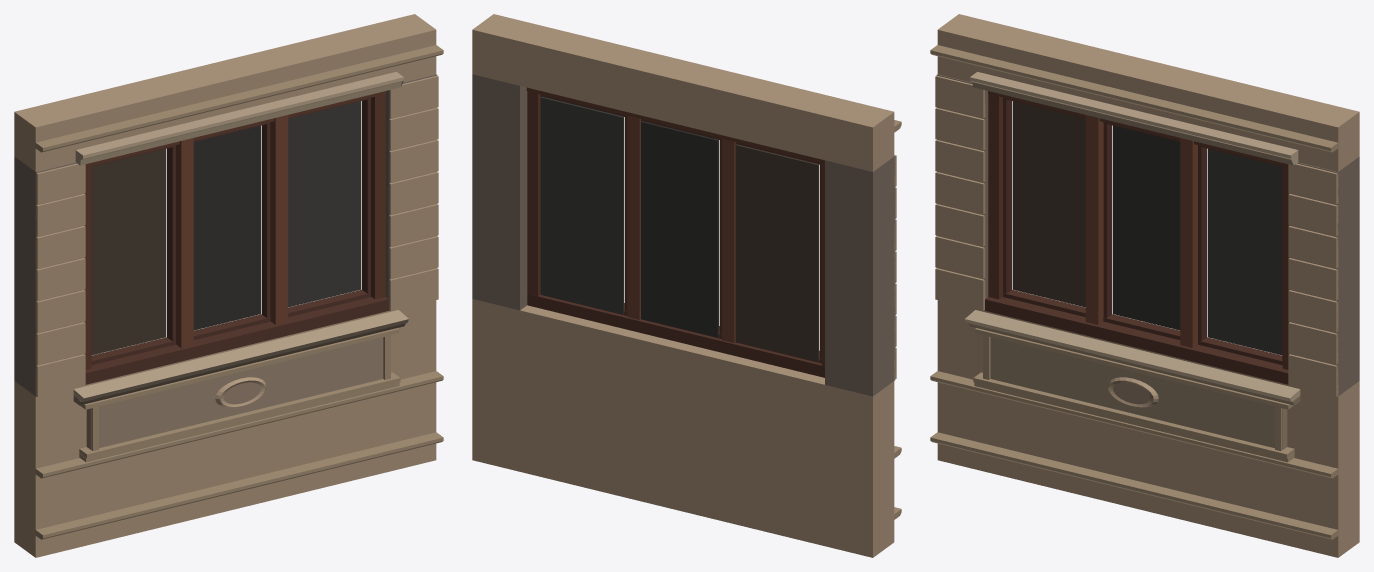
Rendered from huangpu-guangyuan-courtyard-triple-window-lod.glb.
The picture shows the model from 3 angles, left to right: view 1: azimuth 30°, elevation 25°; view 2: azimuth 150°, elevation 25°; view 3: azimuth 330°, elevation 25°; orthographic projection.
Visible parts, largest first — view 1: 光远坊内院三联木窗与分层窗台; view 2: 光远坊内院三联木窗与分层窗台; view 3: 光远坊内院三联木窗与分层窗台.
Boxes of the visible parts, bbox=[...] form: 光远坊内院三联木窗与分层窗台: bbox=[14, 14, 443, 557]; 光远坊内院三联木窗与分层窗台: bbox=[472, 14, 901, 557]; 光远坊内院三联木窗与分层窗台: bbox=[930, 14, 1359, 557].
Size of the model in its own units: 2.26 by 2.32 by 0.313.
